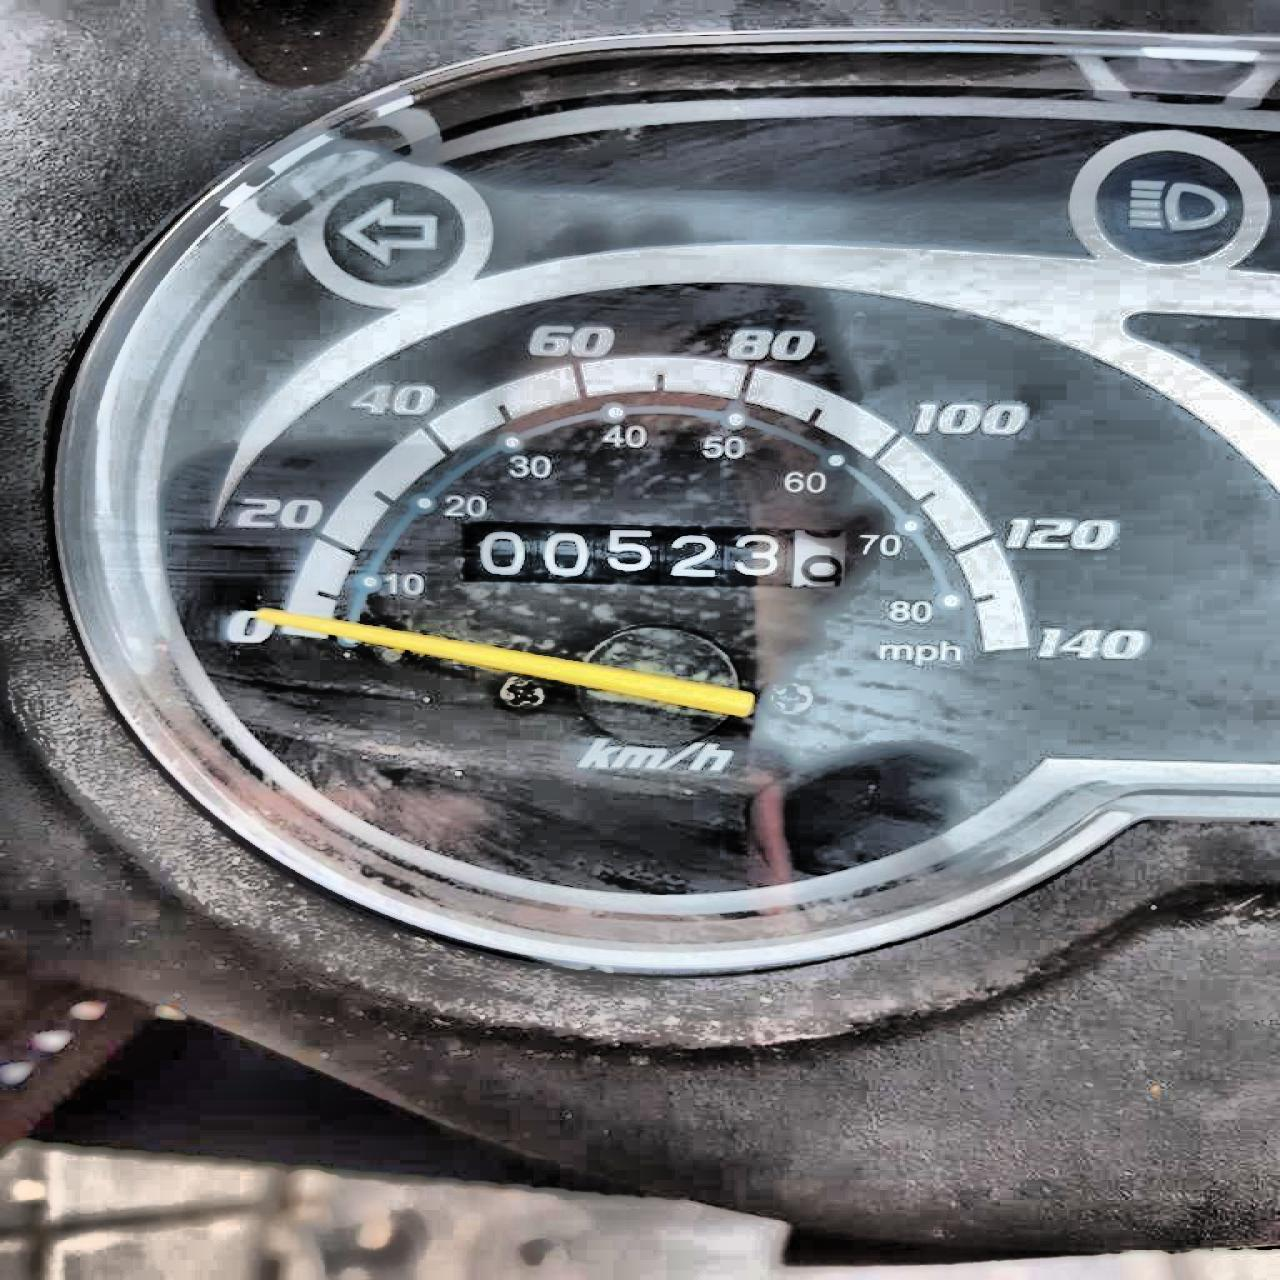0: (537, 527, 592, 578), (474, 527, 530, 574)
2: (665, 531, 719, 578)
3: (730, 532, 782, 578)
5: (604, 526, 655, 572)
9: (794, 552, 845, 590)
odometer: (454, 512, 855, 593)
